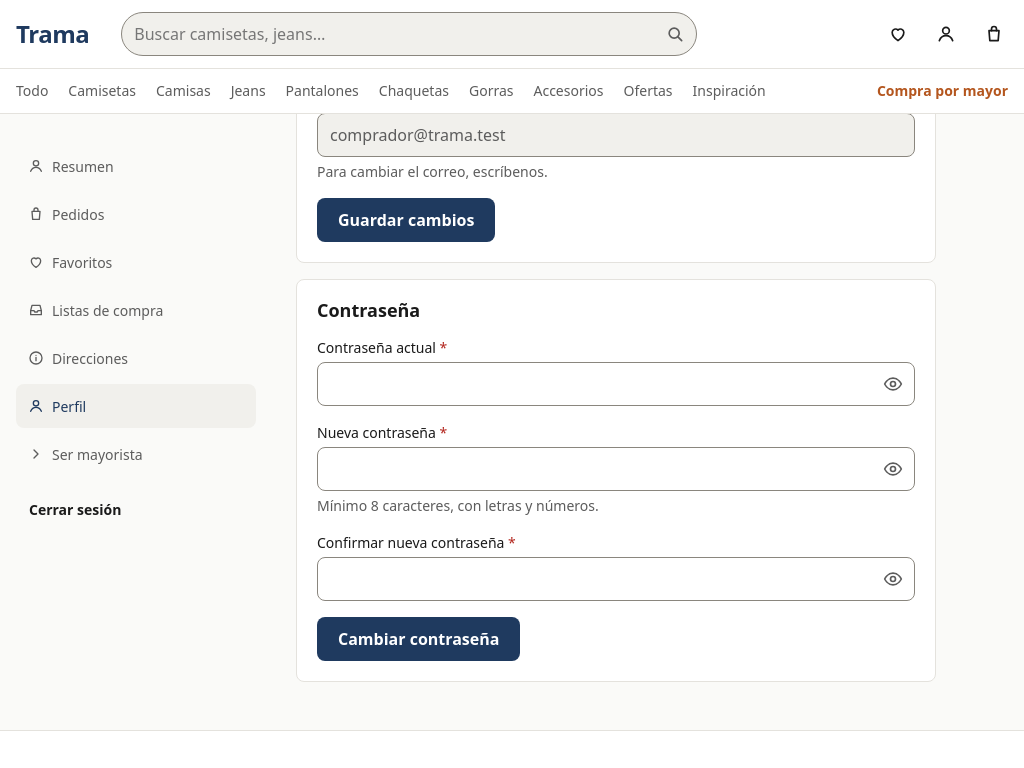
Test case: Cuenta del comprador › perfil: cambio de contraseña con error del backend en el campo
(page scrolled)
Type "incorrecta1" into the password field labelled "Contraseña actual *". click: (616, 384)
box: [317,362,915,406]
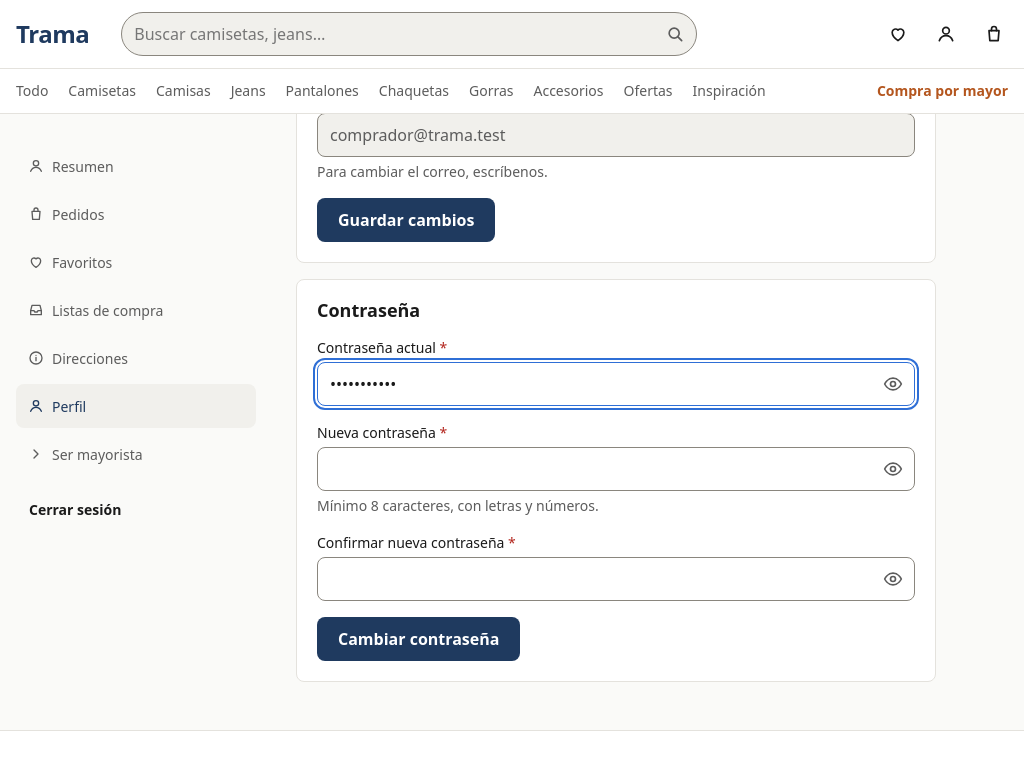
Type "nueva2026" into the password field labelled "Nueva contraseña *". click: (616, 469)
box: [317,447,915,491]
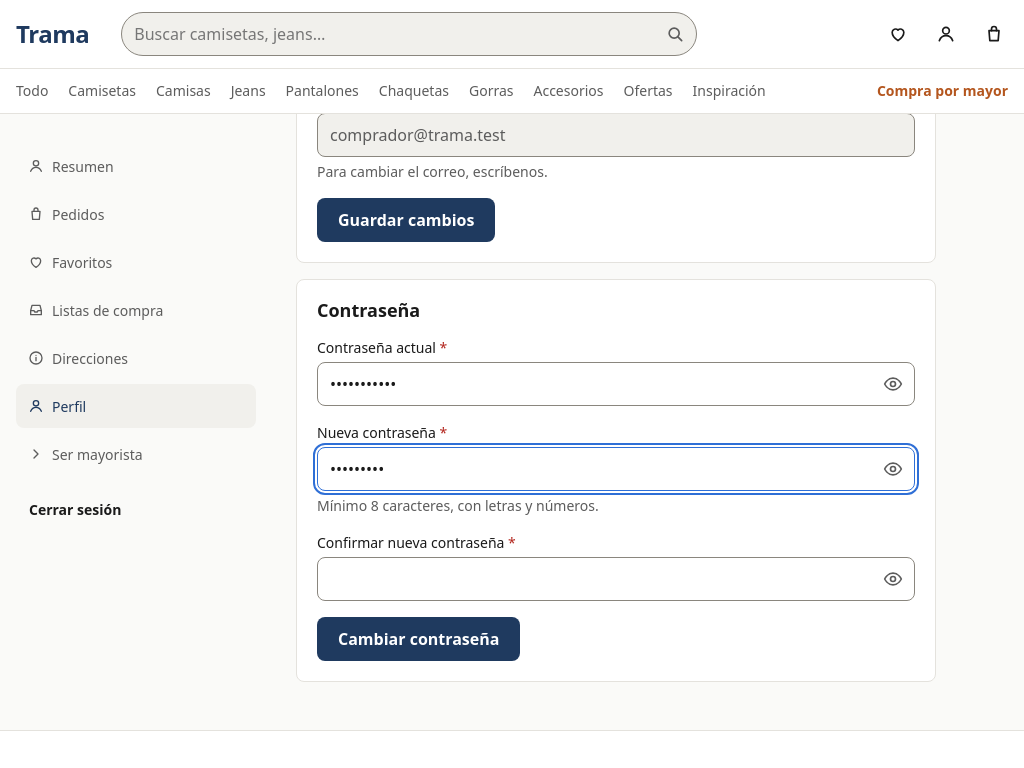
Type "nueva2026" into the password field labelled "Confirmar nueva contraseña *". click: (616, 579)
box: [317,557,915,601]
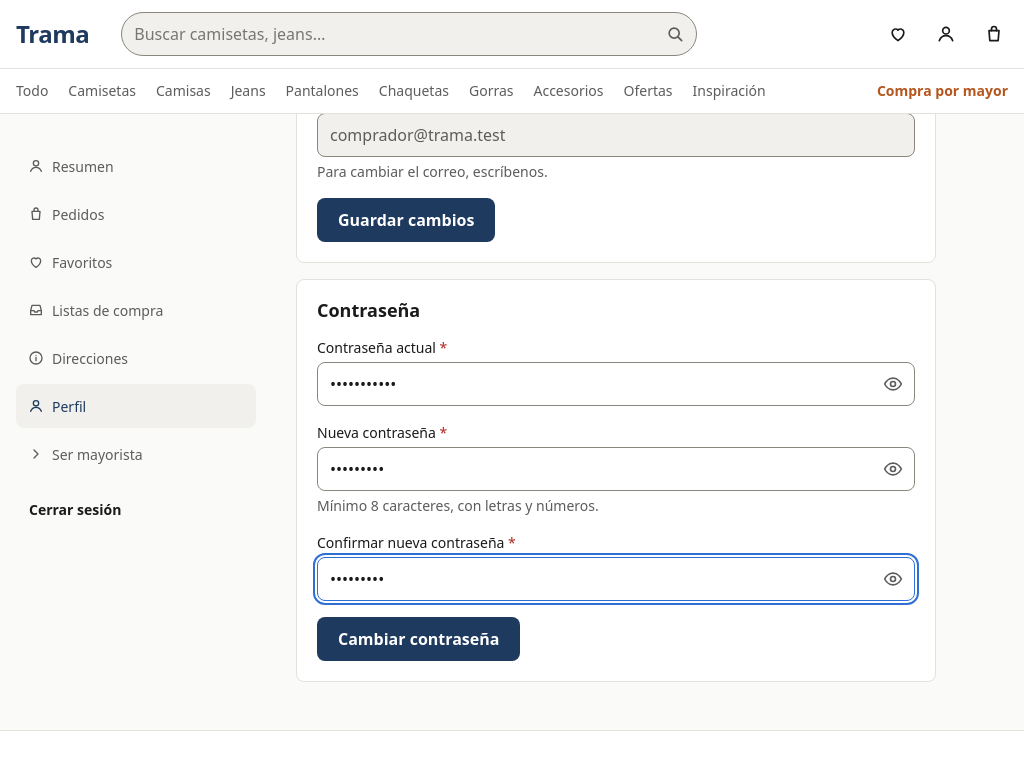
Click the button "Cambiar contraseña". click: click(419, 639)
box: [317,617,520,661]
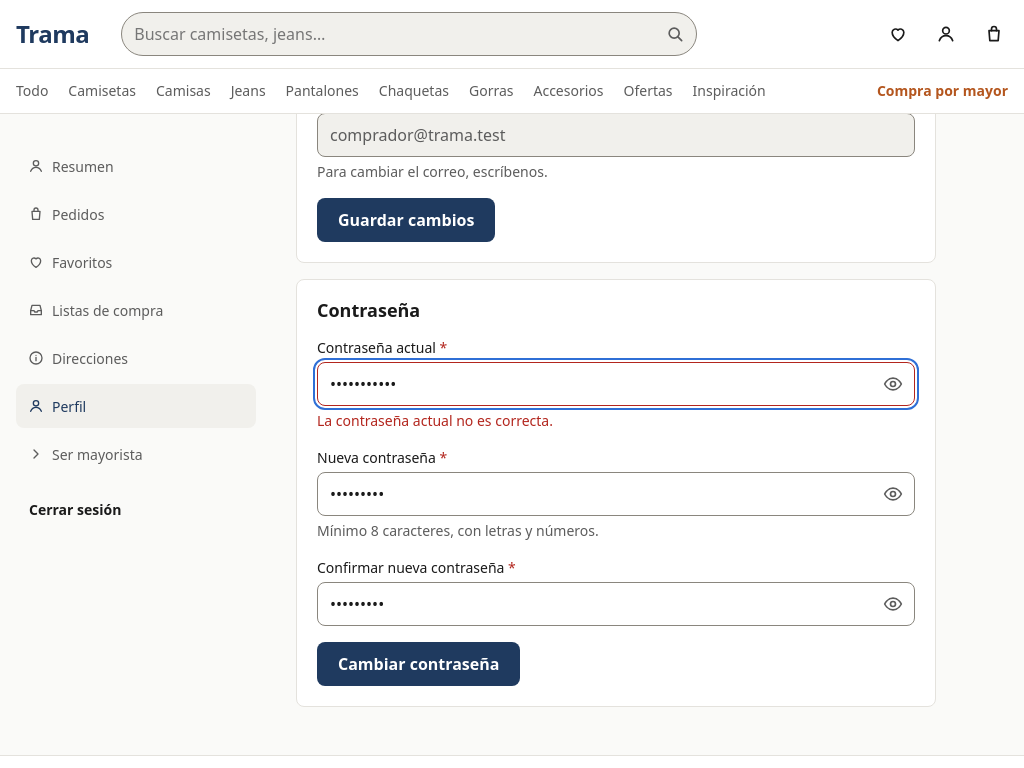
Check: the text "La contraseña actual no es correcta." is shown, box [317,411,553,430]
Type "Trama1234" into the password field labelled "Contraseña actual *". click: (616, 384)
box: [317,362,915,406]
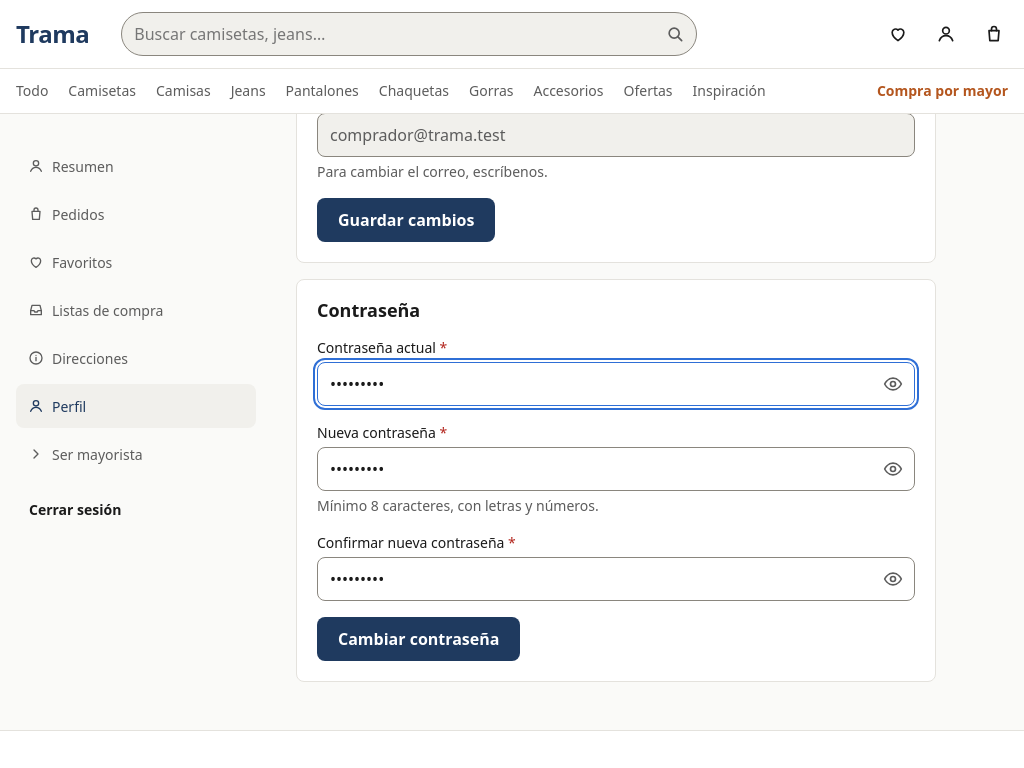
Click the button "Cambiar contraseña". click: click(419, 639)
box: [317,617,520,661]
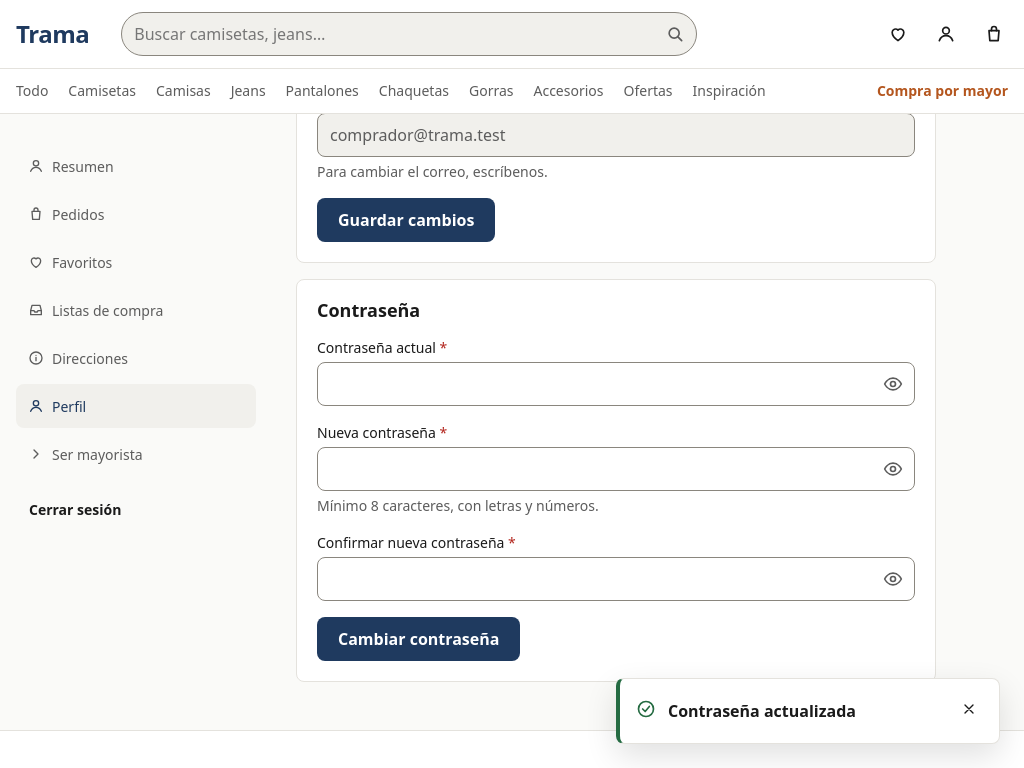
Check: the text "Contraseña actualizada" is shown, box [668,700,856,722]
Check: the password field labelled "Contraseña actual *" is empty, box [317,362,915,406]
